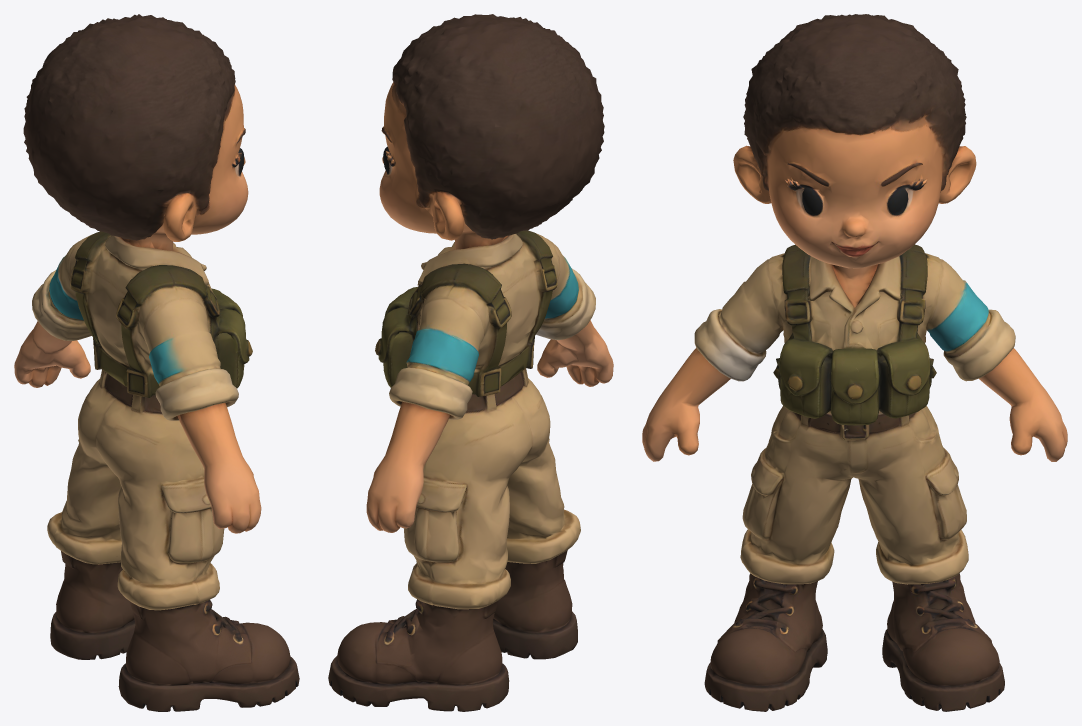
The model's file is rookie_female_tripo_raw.glb.
3 renders of one model, left to right at view 1: azimuth 30°, elevation 25°; view 2: azimuth 150°, elevation 25°; view 3: azimuth 270°, elevation 25°, orthographic.
Visible parts, largest first — view 1: tripo_node_62cd0ef6-eb00-4b40-9f8d-28c8c2c6a003; view 2: tripo_node_62cd0ef6-eb00-4b40-9f8d-28c8c2c6a003; view 3: tripo_node_62cd0ef6-eb00-4b40-9f8d-28c8c2c6a003.
Boxes of the visible parts, box(x1,y1,x2,y2) form: tripo_node_62cd0ef6-eb00-4b40-9f8d-28c8c2c6a003: box(14, 14, 299, 711); tripo_node_62cd0ef6-eb00-4b40-9f8d-28c8c2c6a003: box(328, 14, 613, 711); tripo_node_62cd0ef6-eb00-4b40-9f8d-28c8c2c6a003: box(642, 14, 1067, 711).
Bounding box in the file's own units: 0.3326 × 1 × 0.6035.
Materials: 1 (1 with a texture image).
